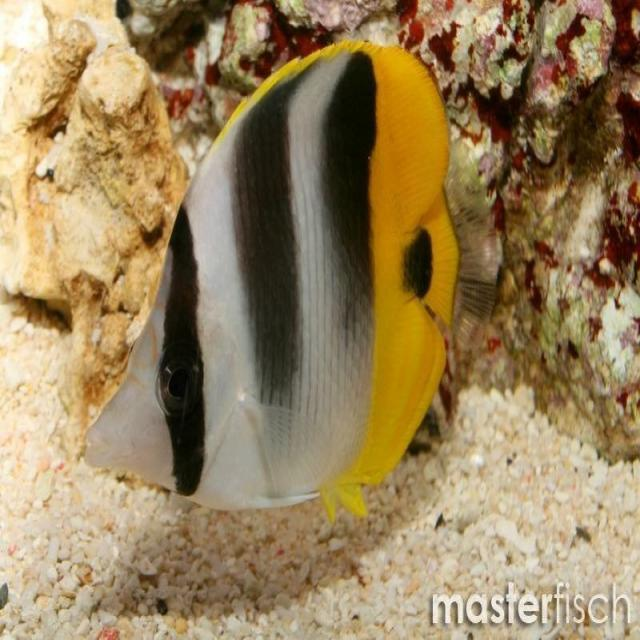ButterflyFish: (58, 34, 500, 520)
